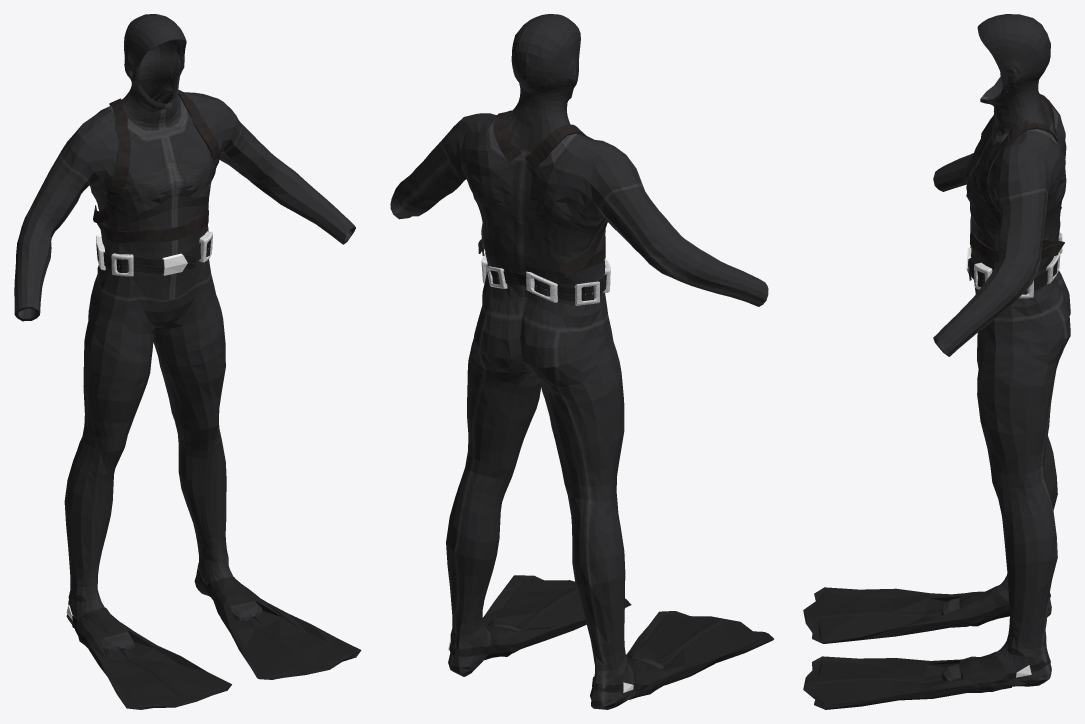
The model's file is mhw_punkduck_diver_suit.glb.
The picture shows the model from 3 angles, left to right: view 1: azimuth 30°, elevation 25°; view 2: azimuth 150°, elevation 25°; view 3: azimuth 270°, elevation 25°; orthographic projection. The views are drawn at different scales.
Visible parts, largest first — view 1: mhw_punkduck_diver_suit; view 2: mhw_punkduck_diver_suit; view 3: mhw_punkduck_diver_suit.
Boxes of the visible parts, x1,y1,x2,y2 form: mhw_punkduck_diver_suit: (14,14,361,709); mhw_punkduck_diver_suit: (390,14,773,709); mhw_punkduck_diver_suit: (803,14,1070,709).
Size of the model in its own units: 1.11 by 1.88 by 0.7154.
Materials: 1 (1 with a texture image).
